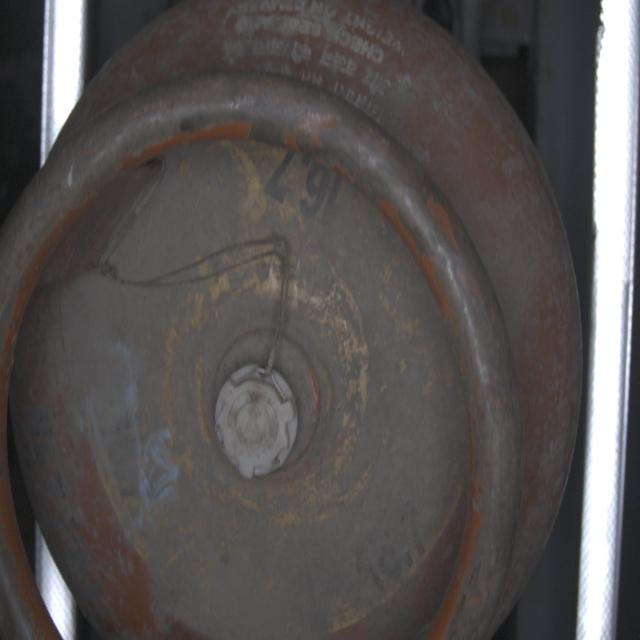Cap: (215, 365, 301, 481)
